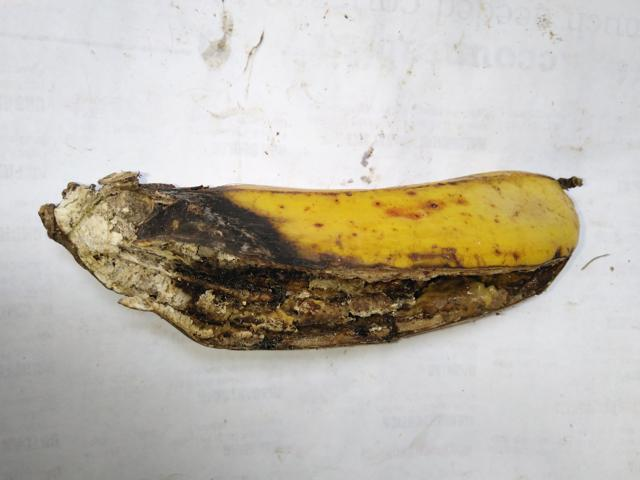rotten: (15, 151, 575, 364)
